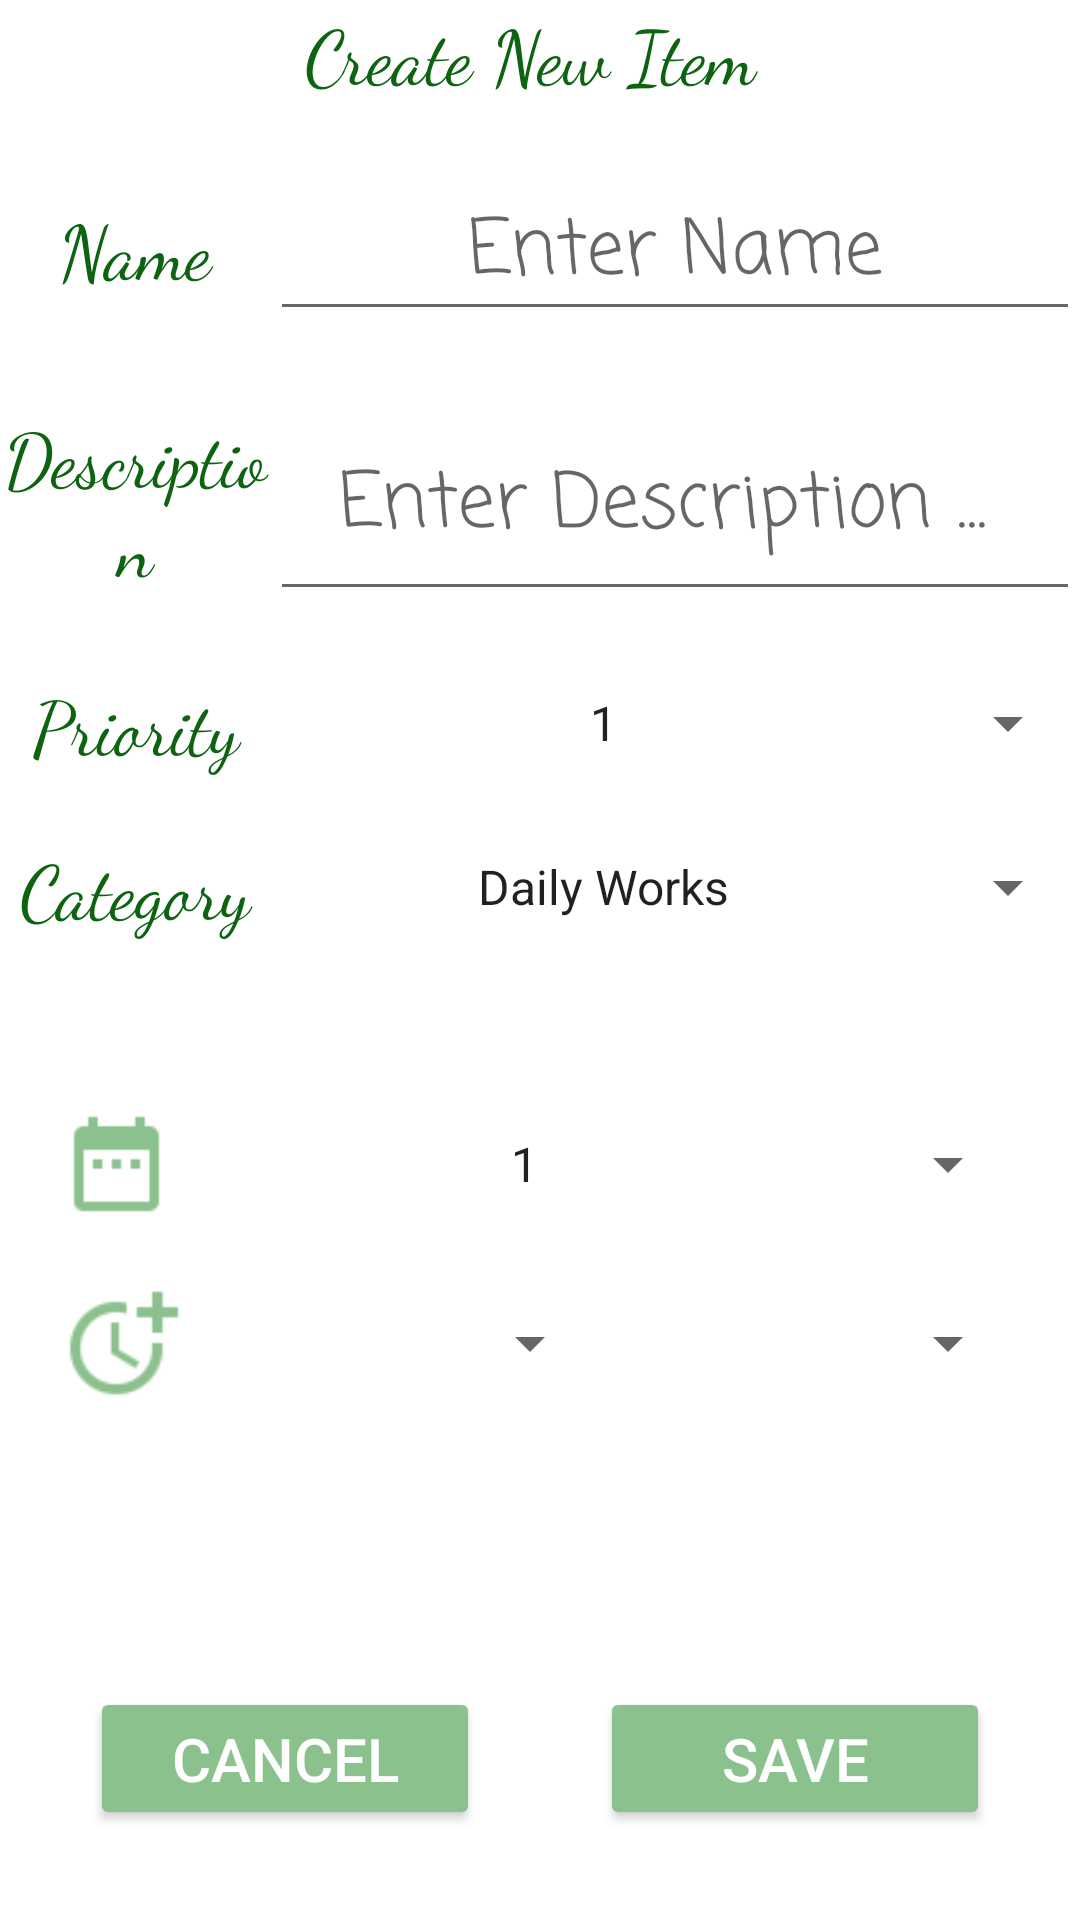

Locate icon controls on the screen. Image size 1080w x 1920h, boxes as (x1, y1, x2, y2).
date range: (73, 1116, 160, 1212)
more time: (70, 1291, 179, 1395)
